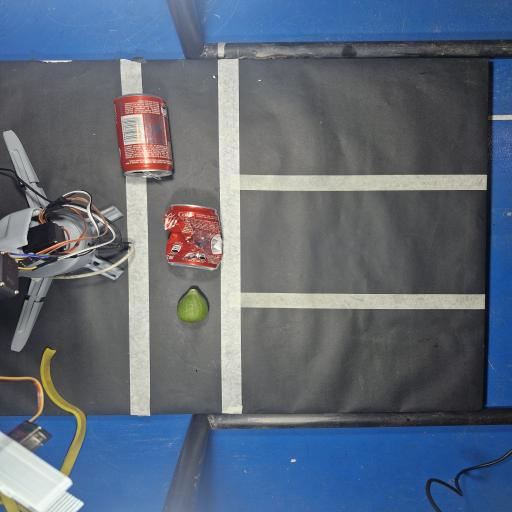higo: (177, 289, 208, 322)
lata: (114, 95, 172, 175)
lata_defectuoso: (164, 205, 222, 270)
